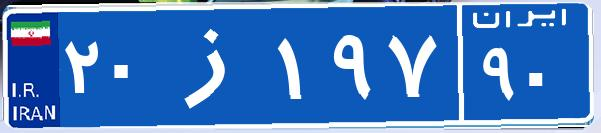0: (110, 28, 158, 105), (525, 38, 570, 115)
1: (273, 28, 330, 110)
2: (57, 26, 110, 107)
7: (385, 28, 445, 110)
9: (330, 28, 385, 110), (475, 38, 525, 113)
ز: (158, 15, 273, 115)
